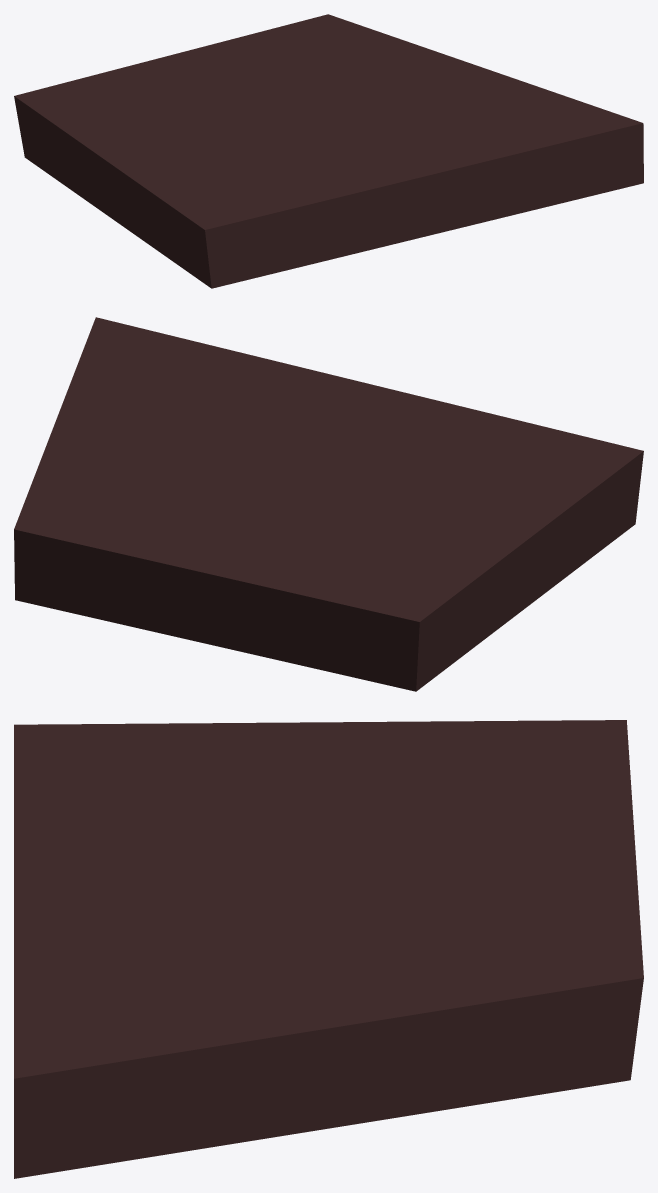
Rendered from T_SolDetruit_5.1.fbx.
3 renders of one model, top to bottom at view 1: azimuth 30°, elevation 25°; view 2: azimuth 150°, elevation 25°; view 3: azimuth 270°, elevation 25°, orthographic. The views are drawn at different scales.
Visible parts, largest first — view 1: T_SolDetruit_5.1; view 2: T_SolDetruit_5.1; view 3: T_SolDetruit_5.1.
Part boxes in pixels (<box>): T_SolDetruit_5.1: <box>14,14,643,288</box>; T_SolDetruit_5.1: <box>14,317,643,691</box>; T_SolDetruit_5.1: <box>14,720,643,1178</box>.
Bounding box in the file's own units: 104 × 13.48 × 77.13.
